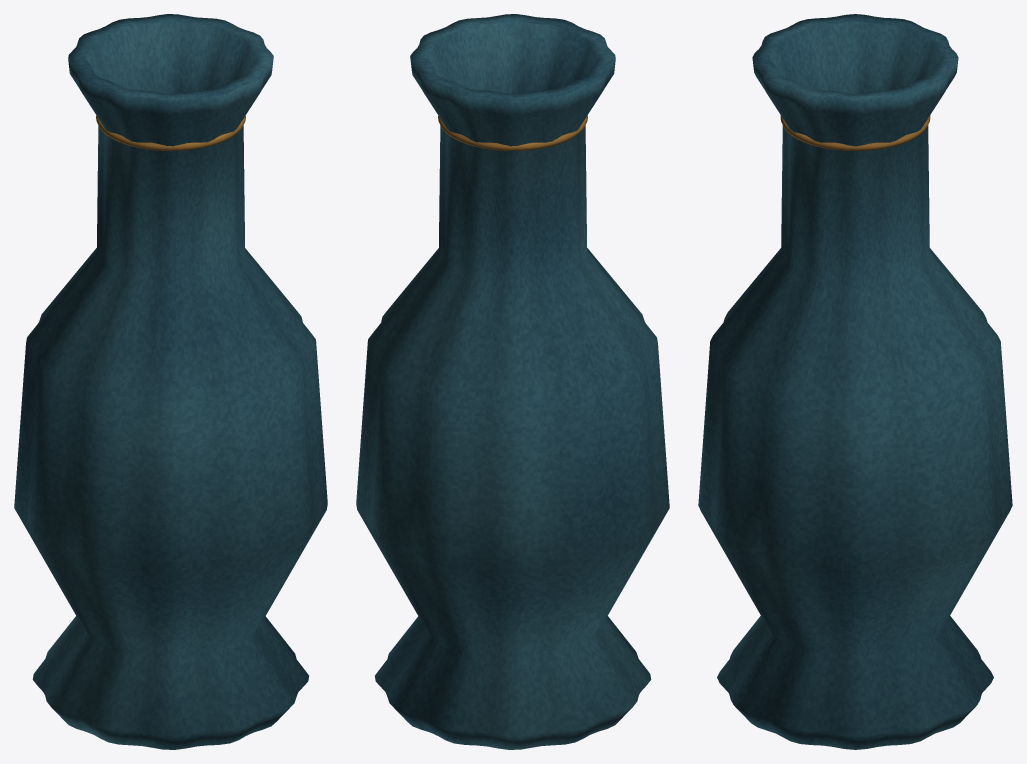
Rendered from VaseFluted.fbx.
3 renders of one model, left to right at view 1: azimuth 30°, elevation 25°; view 2: azimuth 150°, elevation 25°; view 3: azimuth 270°, elevation 25°, orthographic.
Parts seen in each view (by area): view 1: VaseFluted_BlueGlaze, VaseFluted_Brass; view 2: VaseFluted_BlueGlaze, VaseFluted_Brass; view 3: VaseFluted_BlueGlaze, VaseFluted_Brass.
Boxes of the visible parts, box(x1,y1,x2,y2) form: VaseFluted_BlueGlaze: box(14, 14, 327, 749); VaseFluted_Brass: box(96, 115, 245, 150); VaseFluted_BlueGlaze: box(356, 14, 669, 749); VaseFluted_Brass: box(438, 115, 587, 150); VaseFluted_BlueGlaze: box(698, 14, 1012, 749); VaseFluted_Brass: box(780, 115, 930, 150).
Bounding box in the file's own units: 19.07 × 43 × 19.07.
